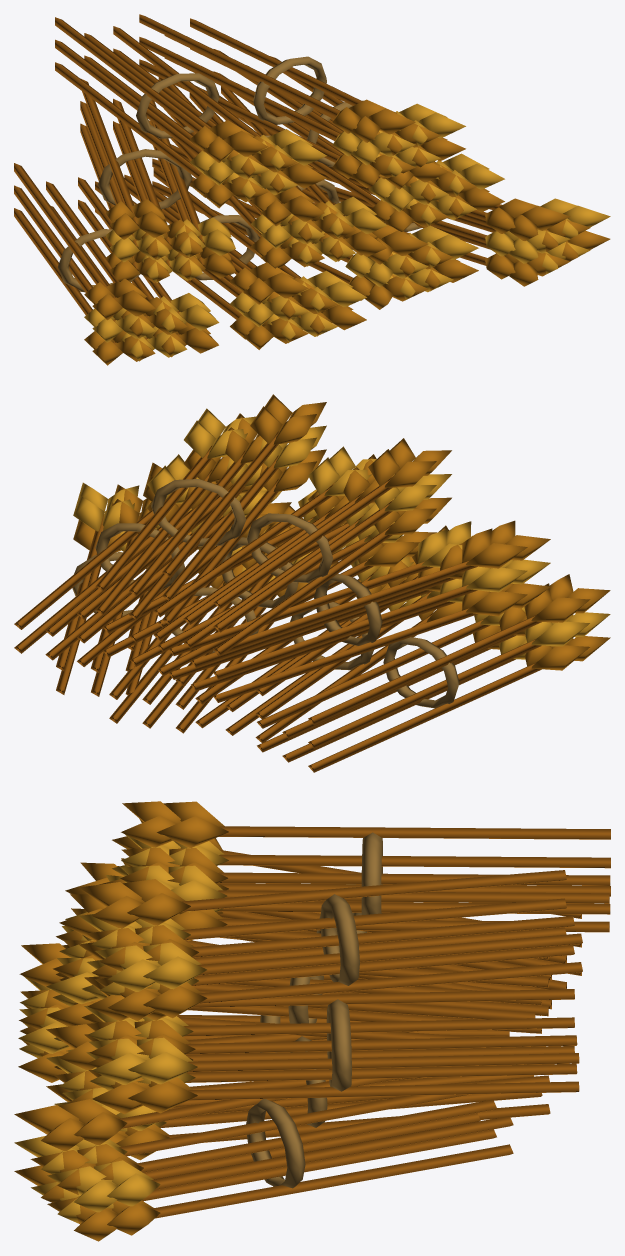
Rendered from pile-wheat-9.obj.
The picture shows the model from 3 angles, top to bottom: view 1: azimuth 30°, elevation 25°; view 2: azimuth 150°, elevation 25°; view 3: azimuth 270°, elevation 25°; orthographic projection. The views are drawn at different scales.
Parts seen in each view (by area): view 1: pile-wheat-9; view 2: pile-wheat-9; view 3: pile-wheat-9.
Boxes of the visible parts, bbox=[...] form: pile-wheat-9: bbox=[14, 14, 610, 365]; pile-wheat-9: bbox=[14, 394, 610, 772]; pile-wheat-9: bbox=[14, 801, 610, 1241].
Bounding box in the file's own units: 0.7706 × 0.2718 × 0.6251.
Materials: 1 (1 with a texture image).
